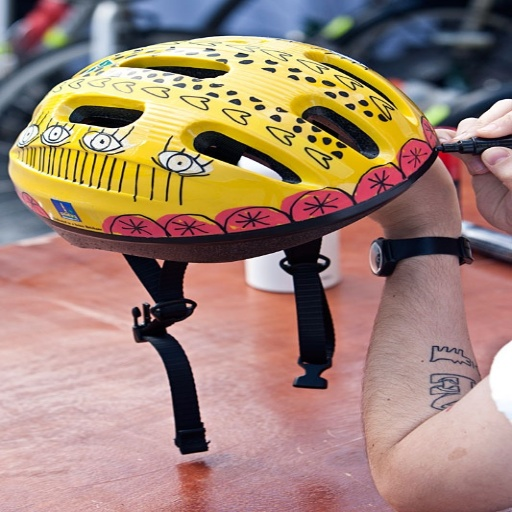hand: (301, 113, 461, 233), (444, 111, 512, 224)
